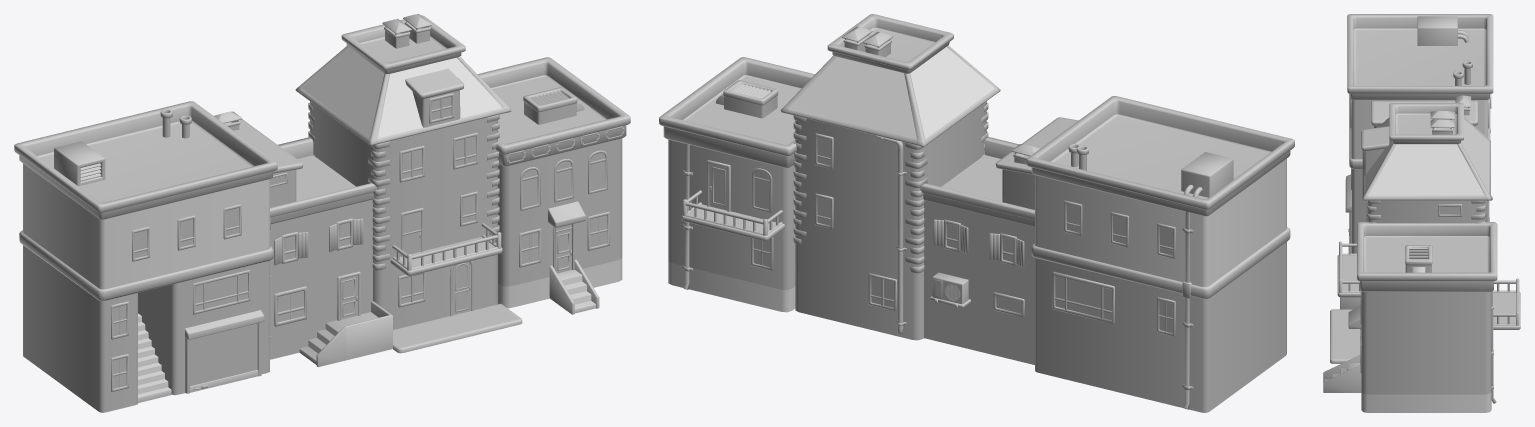
File: 4_house_set_02.fbx
3 renders of one model, left to right at view 1: azimuth 30°, elevation 25°; view 2: azimuth 150°, elevation 25°; view 3: azimuth 270°, elevation 25°, orthographic. The views are drawn at different scales.
Parts seen in each view (by area): view 1: 4_house_set_02, 4_house_set_02_bricks, 4_house_set_02_roof; view 2: 4_house_set_02, 4_house_set_02_bricks, 4_house_set_02_roof; view 3: 4_house_set_02, 4_house_set_02_roof, 4_house_set_02_bricks.
Boxes of the visible parts, left/top/right/bottom form: 4_house_set_02: left=14, top=14, right=630, bottom=412; 4_house_set_02_bricks: left=23, top=163, right=622, bottom=308; 4_house_set_02_roof: left=301, top=47, right=501, bottom=138; 4_house_set_02: left=659, top=14, right=1294, bottom=412; 4_house_set_02_bricks: left=668, top=159, right=1286, bottom=312; 4_house_set_02_roof: left=789, top=47, right=994, bottom=139; 4_house_set_02: left=1323, top=14, right=1520, bottom=403; 4_house_set_02_roof: left=1365, top=119, right=1488, bottom=195; 4_house_set_02_bricks: left=1351, top=99, right=1491, bottom=412.
Size of the model in its own units: 16.58 by 7.9 by 6.2.
